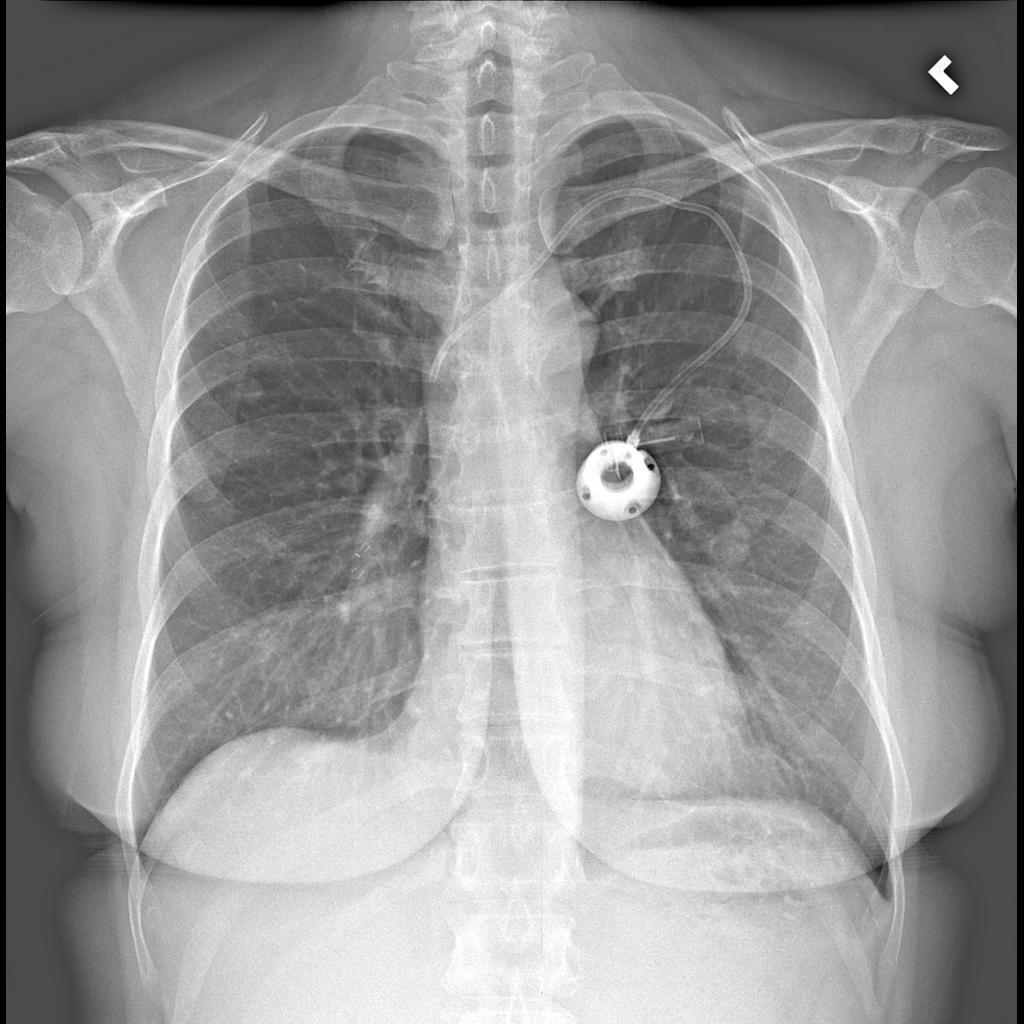Nodule: (693, 491, 779, 581), (217, 363, 275, 410)
